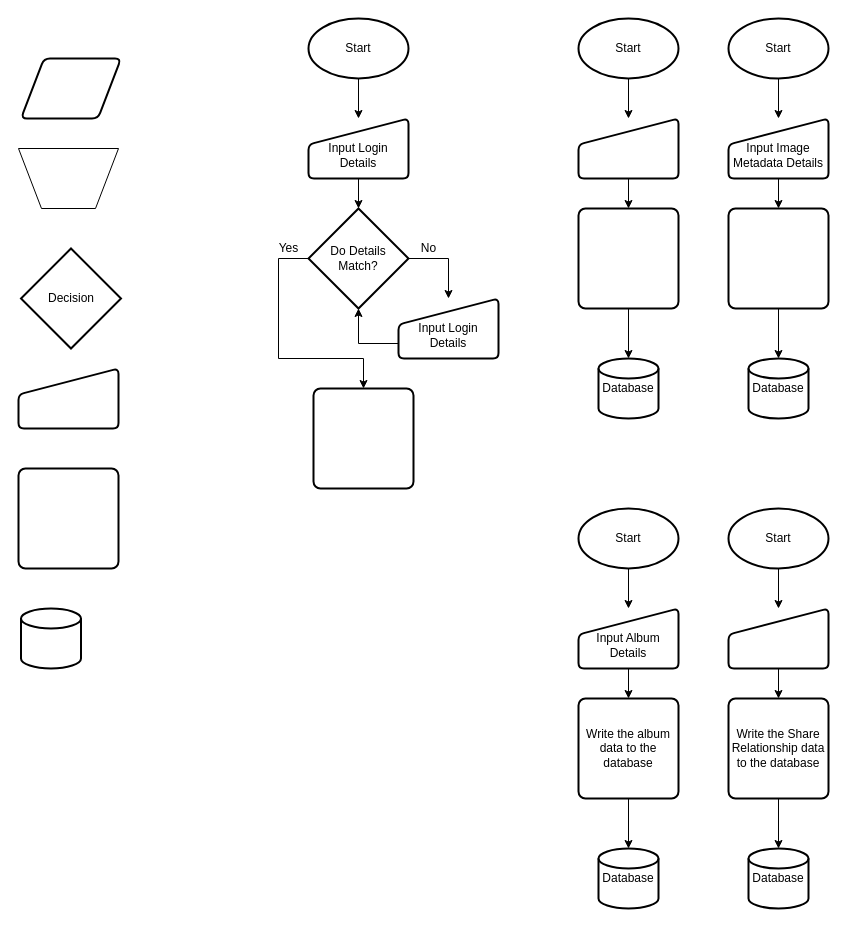
The diagram is 846 pixels wide and 926 high, and some of its shapes have lost their labels. The centre of each missing label's shape, as x and y in pixels:
Data: (71,88)
Input Image Details: (628,148)
Input Share Relationship Details: (778,638)
Login the user: (363,438)
Manual Input: (68,398)
Manual Operation: (68,178)
Process: (68,518)
Write the image data to the database: (628,258)
Write the image metadata to the database: (778,258)
